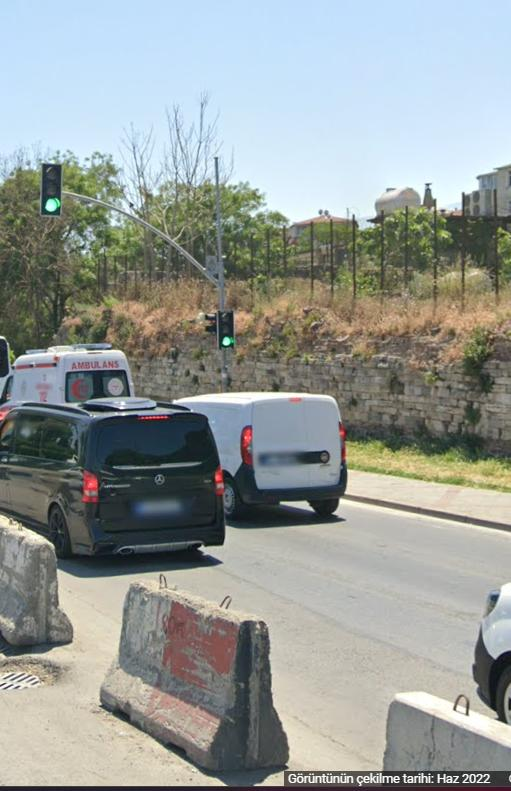greenlight: (38, 159, 64, 221), (214, 306, 238, 352)
